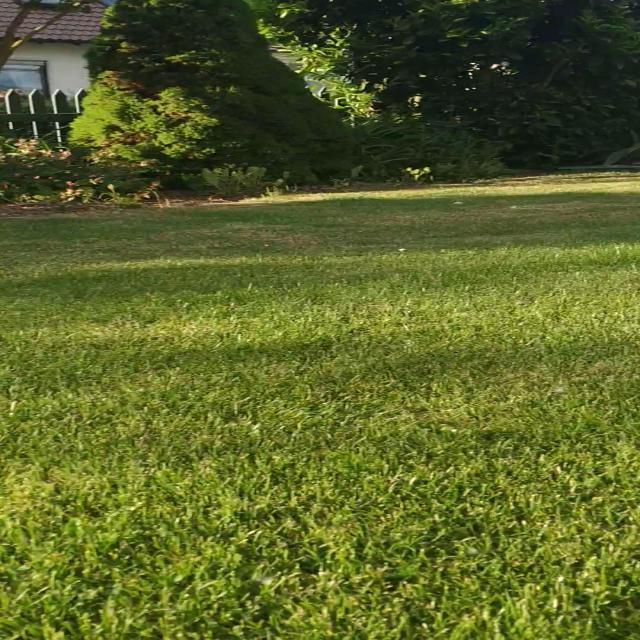lawn: (0, 174, 640, 640)
